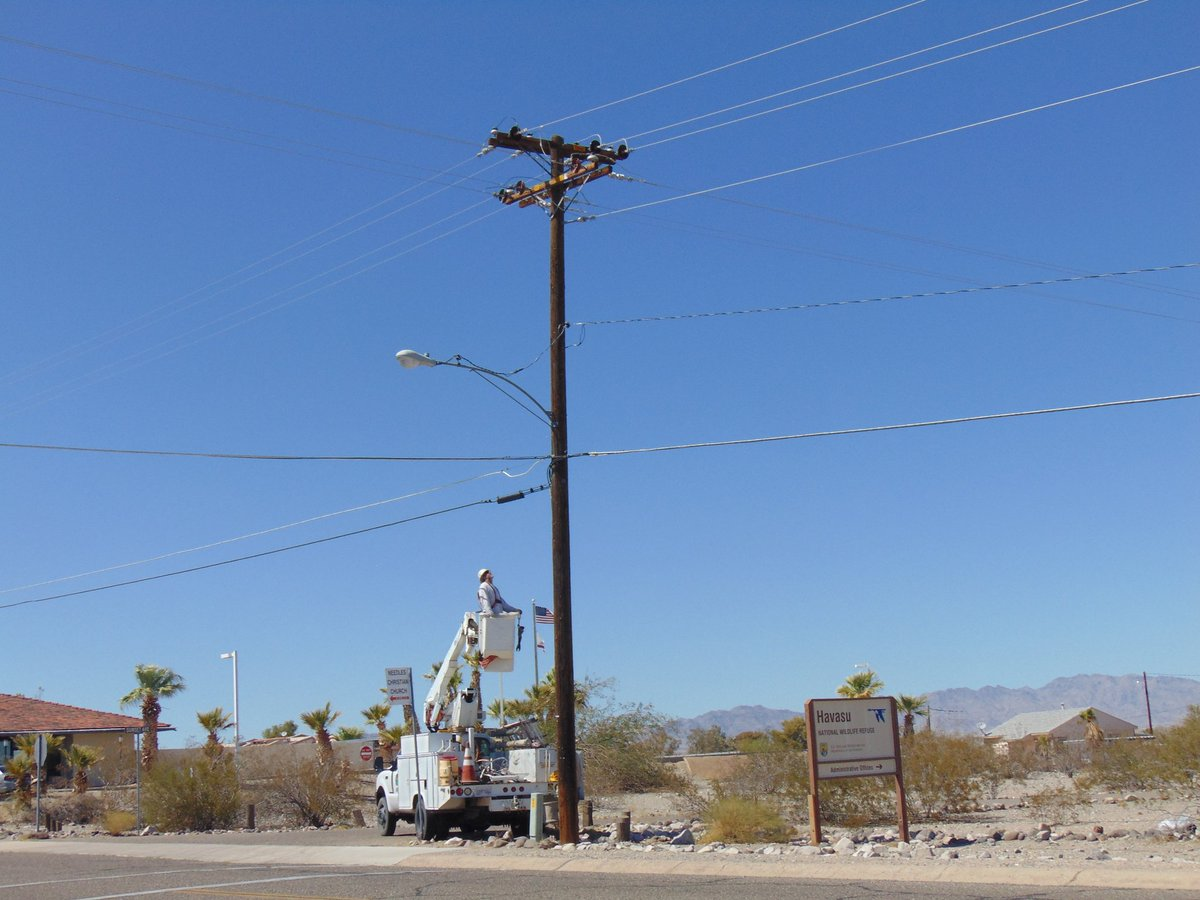utility_pole: (462, 108, 640, 244)
